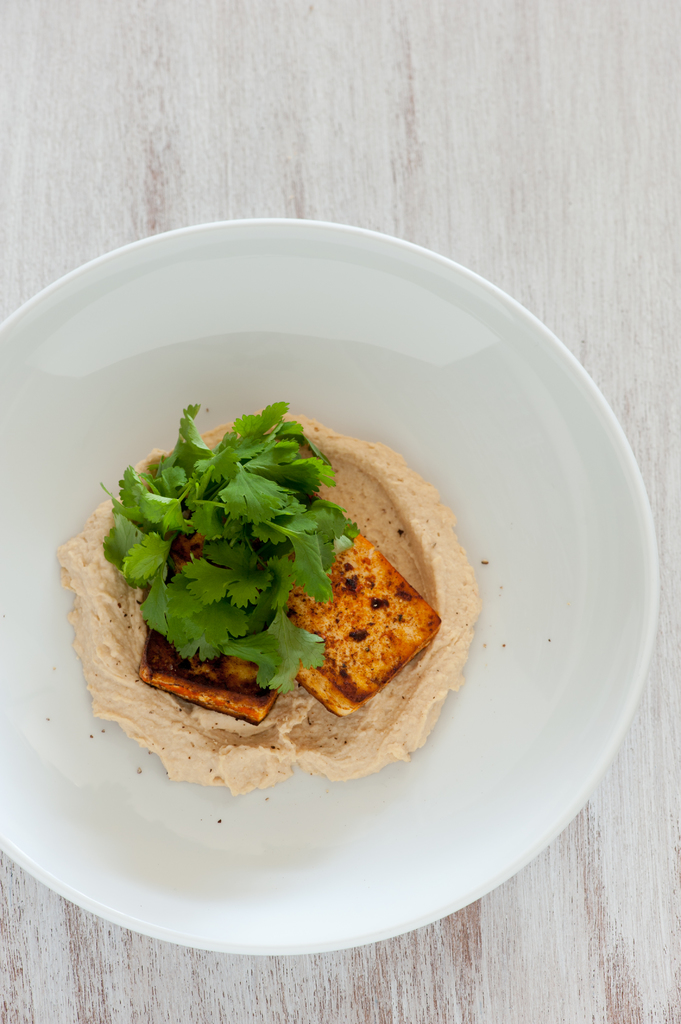taco: (86, 410, 442, 771)
